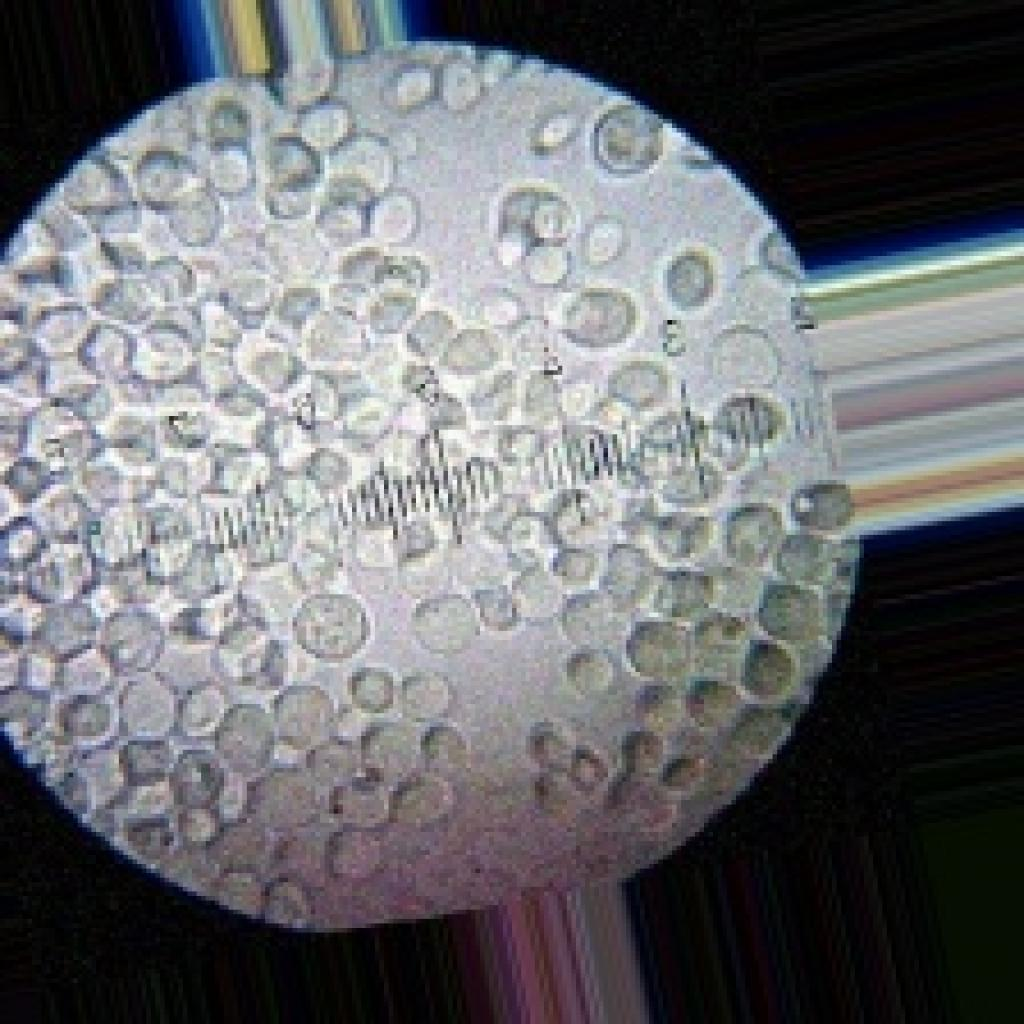Yeast: (0, 32, 864, 933)
